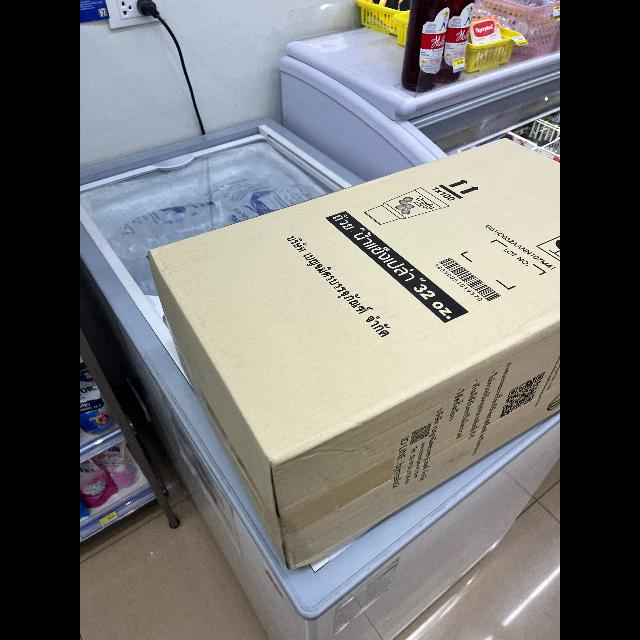cardboard_box: (150, 122, 560, 590)
